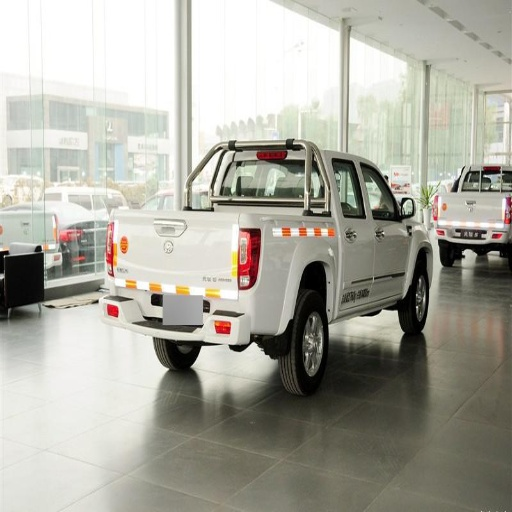back_right_door: (329, 158, 373, 301)
trunk: (117, 201, 332, 334)
